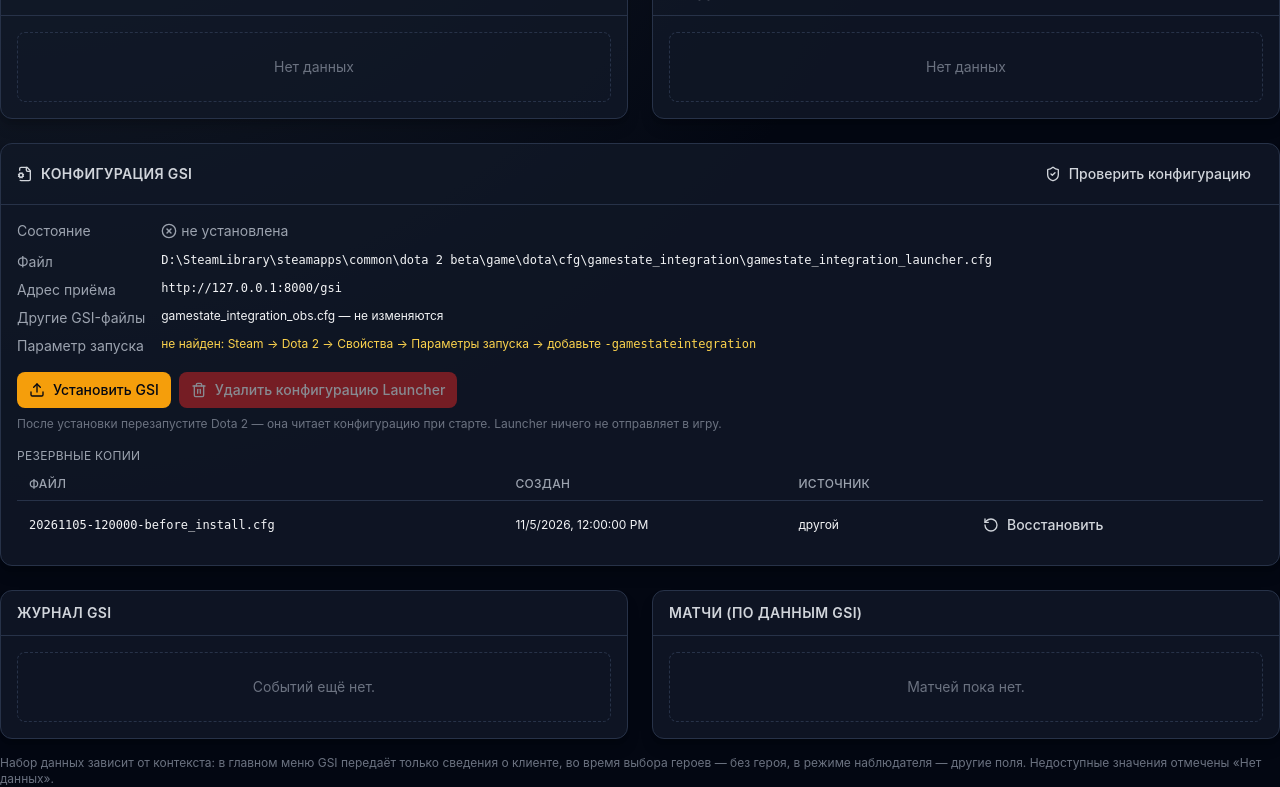
Test: GSI installer › shows the plan and installs only after explicit agreement
(page scrolled)
Expected: the element with test id "launch-option" shows "-gamestateintegration", [604, 337, 756, 351]
Expected: the element with test id "gsi-config" shows "gamestate_integration_obs.cfg — не изменяются", [161, 308, 443, 323]
Click the button with test id "gsi-install".
click(94, 390)  # box [17, 372, 171, 408]
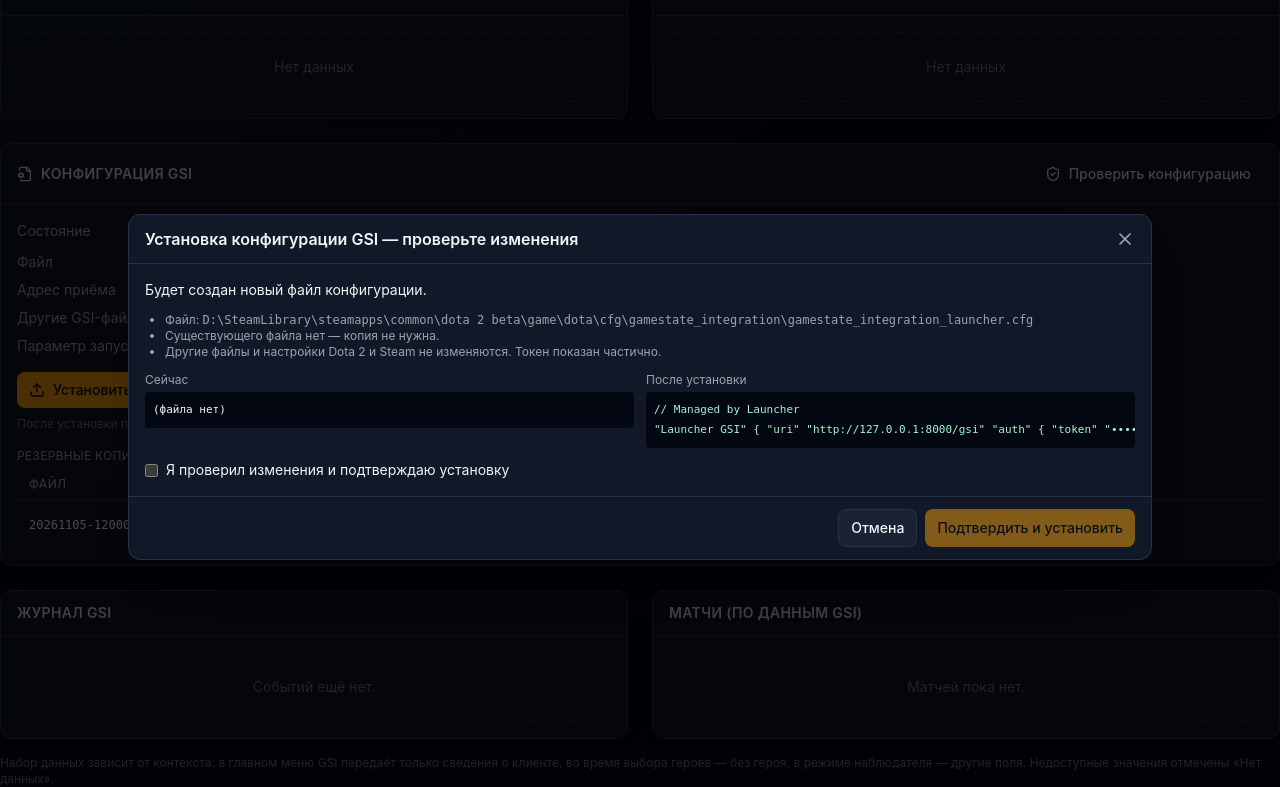
Expected: the element with test id "gsi-preview" shows "Будет создан новый файл", [145, 281, 427, 298]
Expected: the text "••••••••abcd" is shown, [654, 403, 1152, 436]
Expected: the button with test id "gsi-confirm" is disabled, [925, 509, 1135, 547]
Click the checkbox with test id "gsi-agree".
click(152, 470)  # box [145, 464, 158, 476]
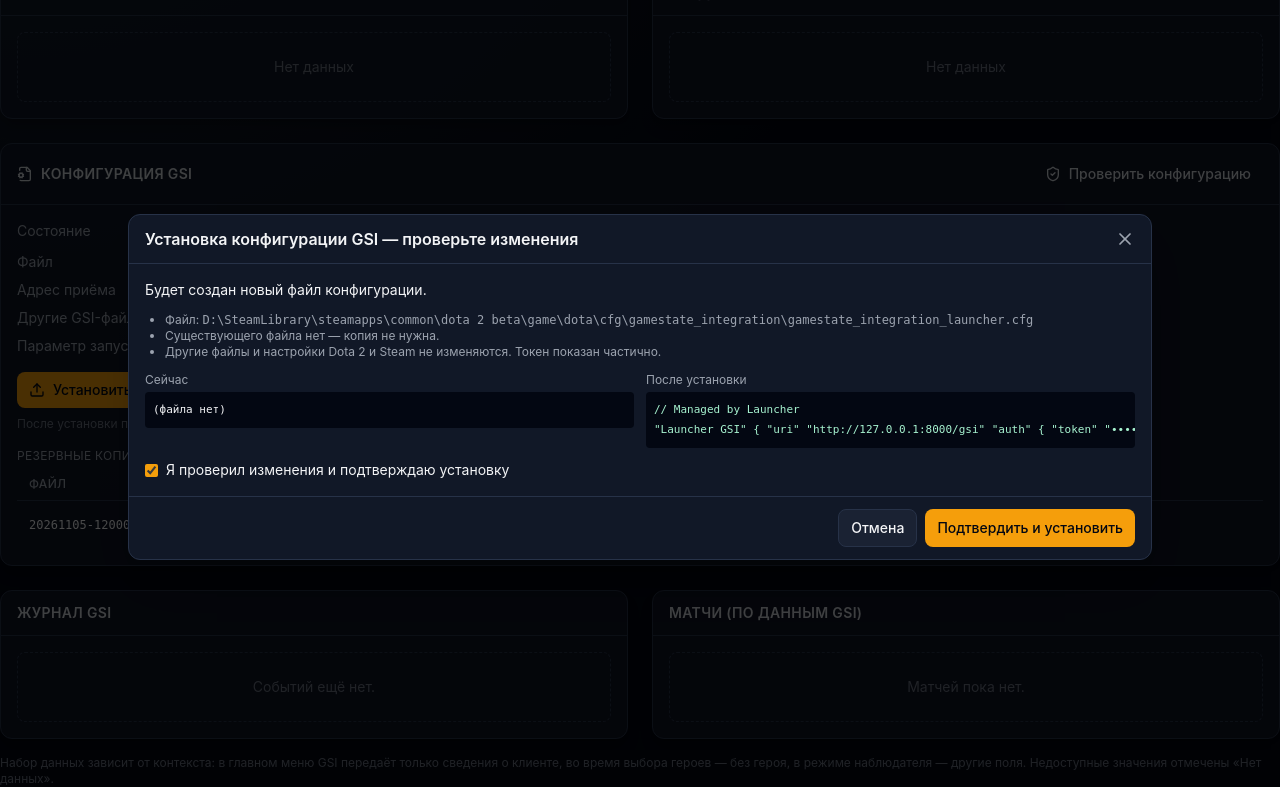
Click the button with test id "gsi-confirm".
click(1030, 528)  # box [925, 509, 1135, 547]
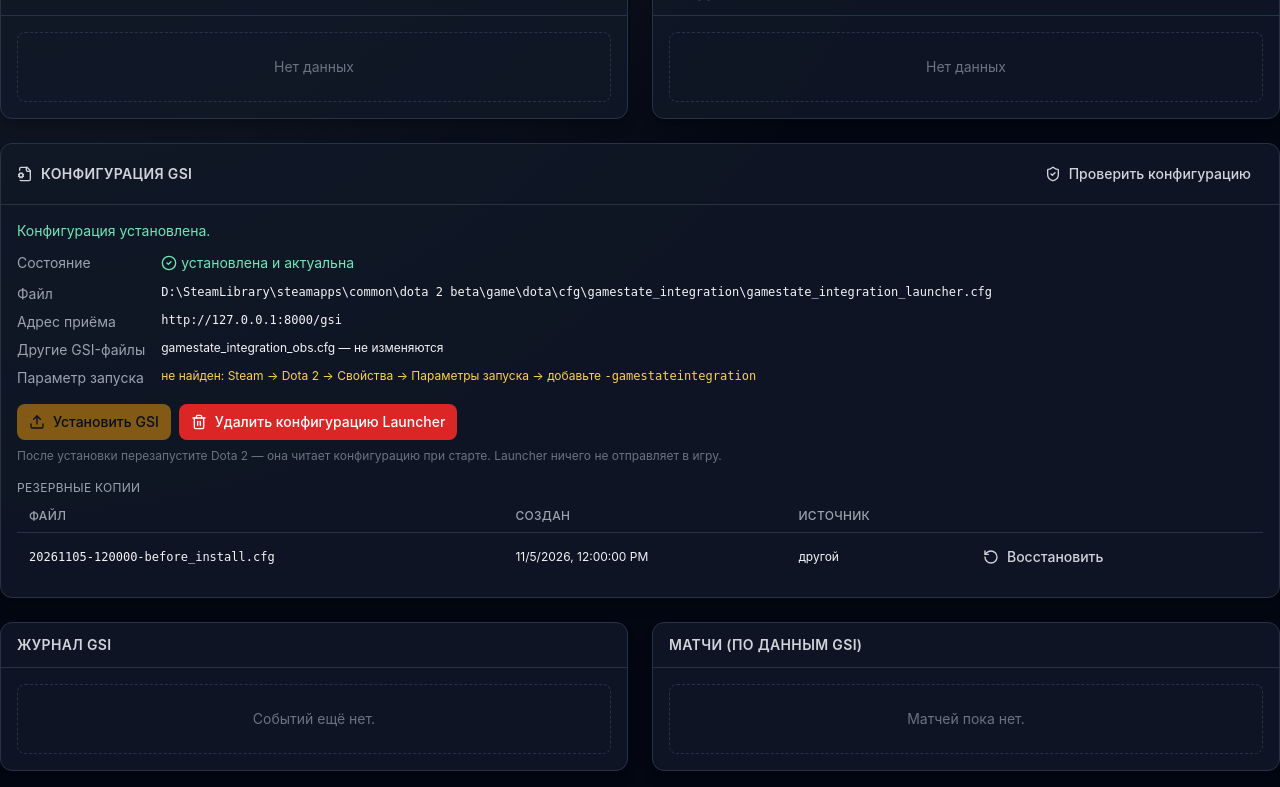
Expected: the message shows "Конфигурация установлена", [17, 222, 210, 239]
Expected: the element with test id "gsi-config" shows "установлена и актуальна", [181, 254, 354, 271]
